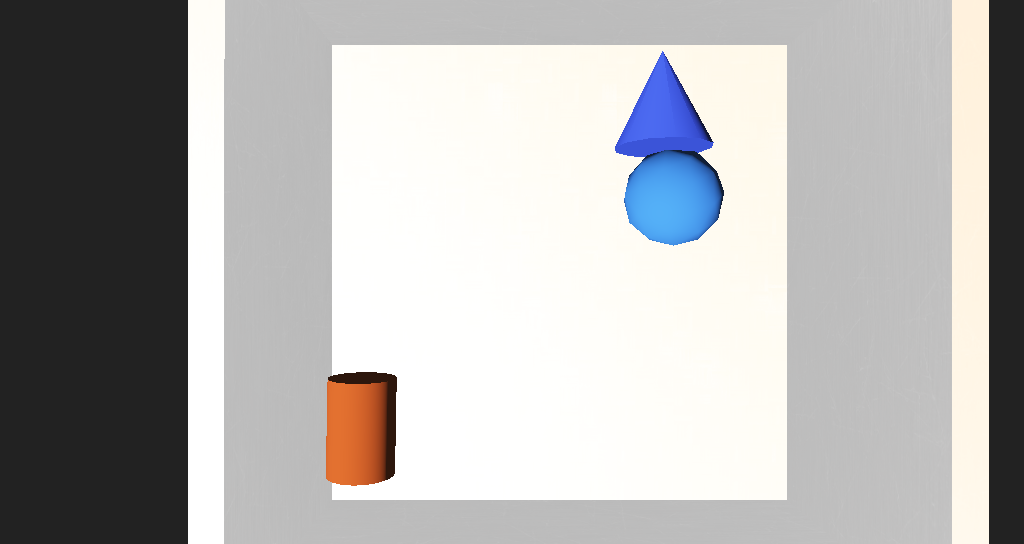cone: (347, 315, 408, 363)
cylinder: (539, 165, 606, 217)
sphere: (549, 210, 610, 258)
